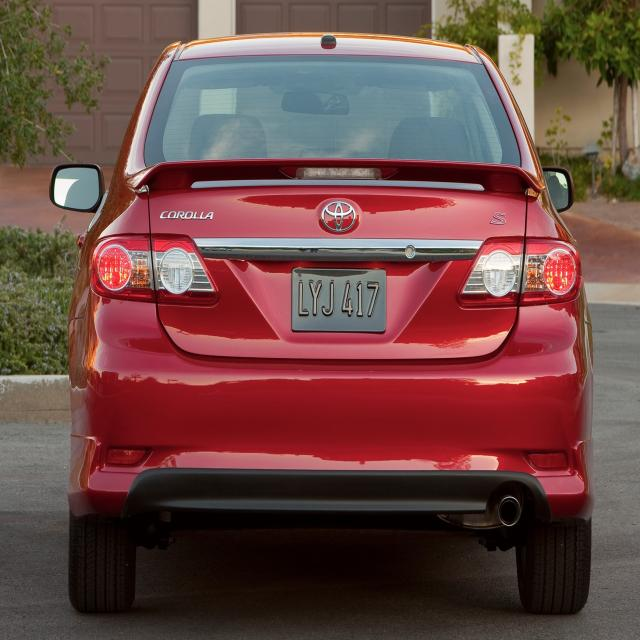car: (35, 0, 610, 640)
